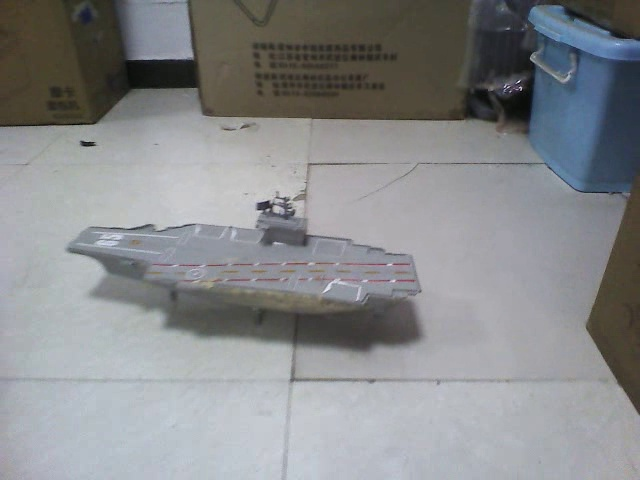aircraft_carrier: (67, 195, 425, 314)
